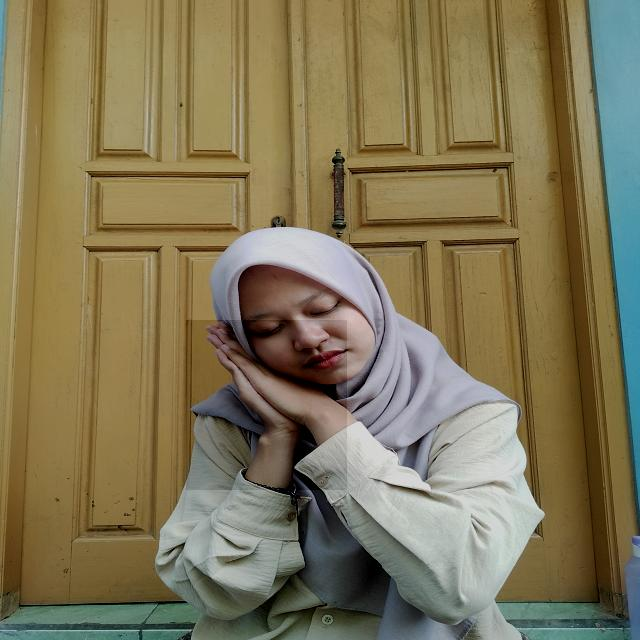tidur: (186, 320, 347, 490)
